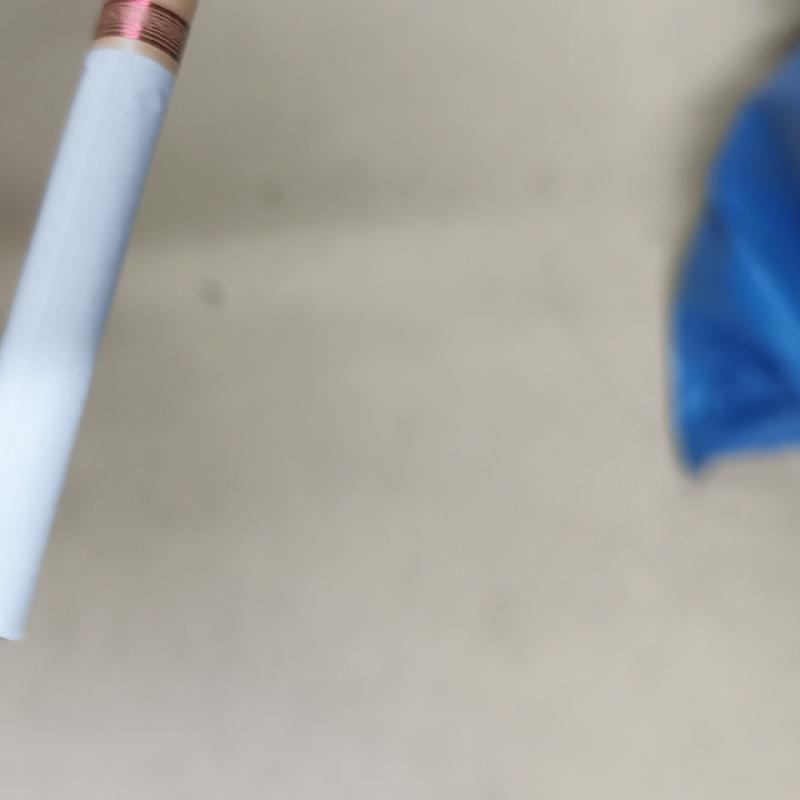cigarette: (0, 0, 195, 650)
